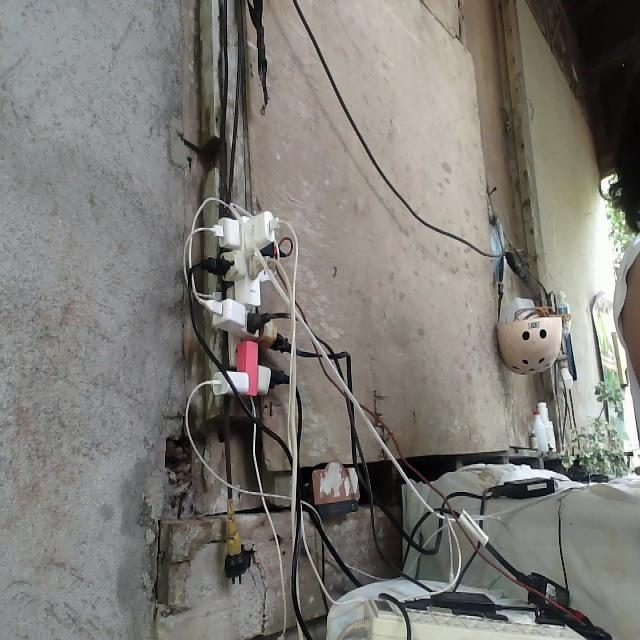-: (196, 208, 290, 393)
